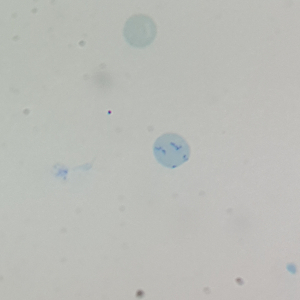aggregate reticulocyte: (152, 132, 192, 170)
erythrocyte: (122, 13, 158, 49)
